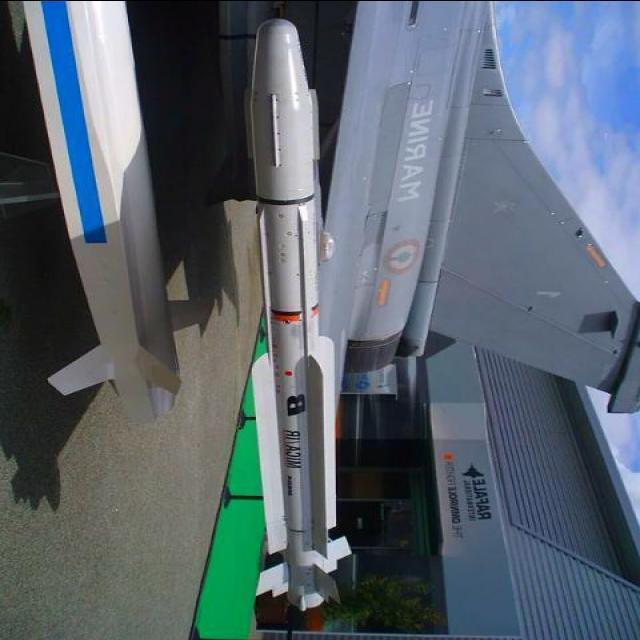missile: (224, 17, 396, 612)
